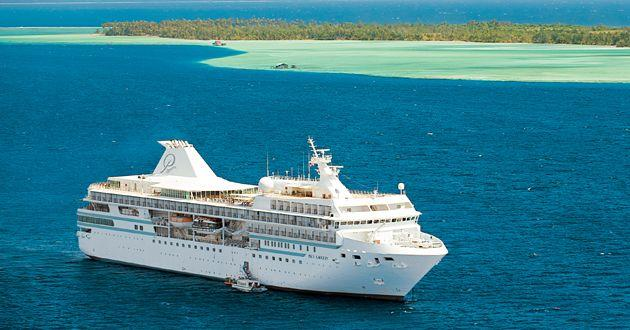youlun: (80, 127, 444, 302)
